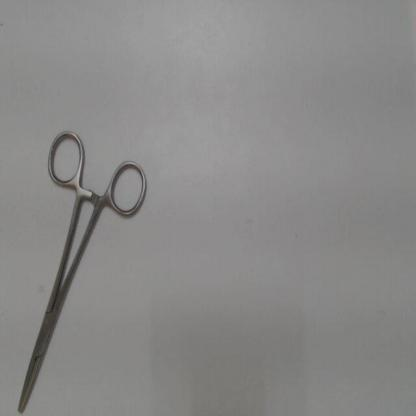Mayo Needle Holder: (13, 122, 152, 414)
